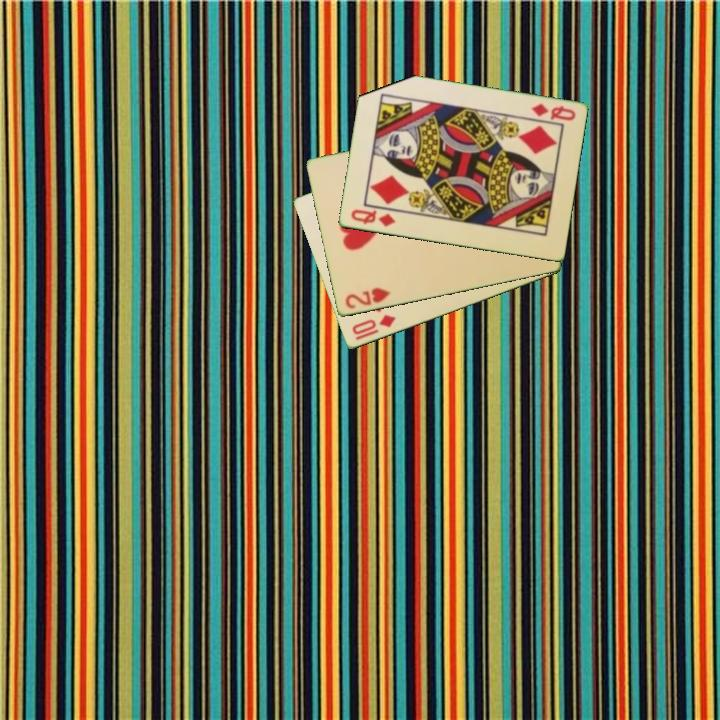10d: (348, 311, 399, 338)
2h: (341, 284, 393, 312)
Qd: (347, 206, 398, 230), (528, 100, 578, 124)
